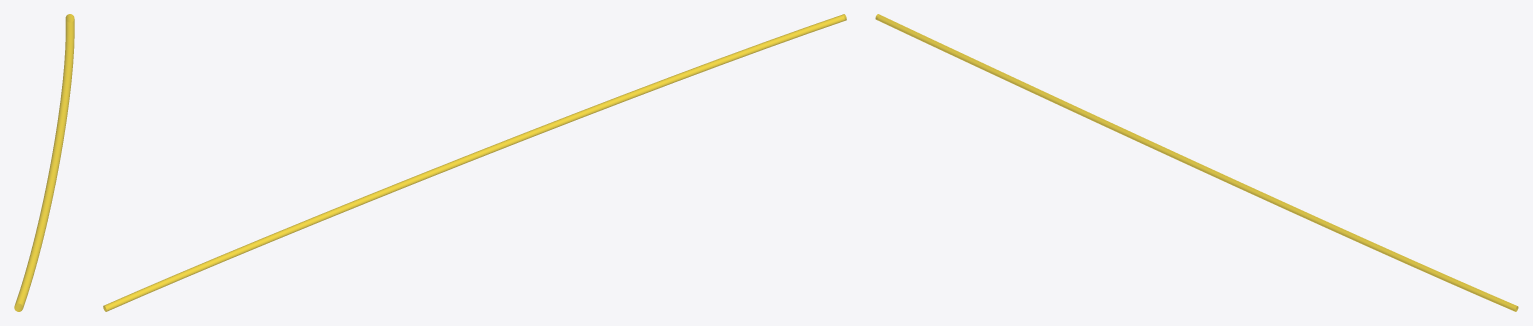
Rendered from Event_100608114_track_70.fbx.
3 renders of one model, left to right at view 1: azimuth 90°, elevation 25°; view 2: azimuth 210°, elevation 25°; view 3: azimuth 330°, elevation 25°, orthographic. The views are drawn at different scales.
Parts seen in each view (by area): view 1: Model; view 2: Model; view 3: Model.
Part boxes in pixels (x1,y1,x2,y2): Model: (14,14,74,311); Model: (103,14,846,311); Model: (875,14,1518,311).
Size of the model in its own units: 4.9 by 0.8836 by 0.2716.
